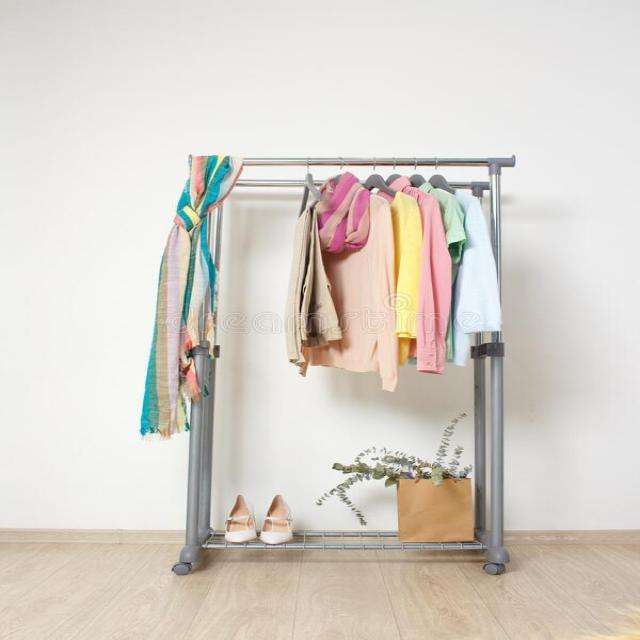clothes: (314, 192, 490, 350)
